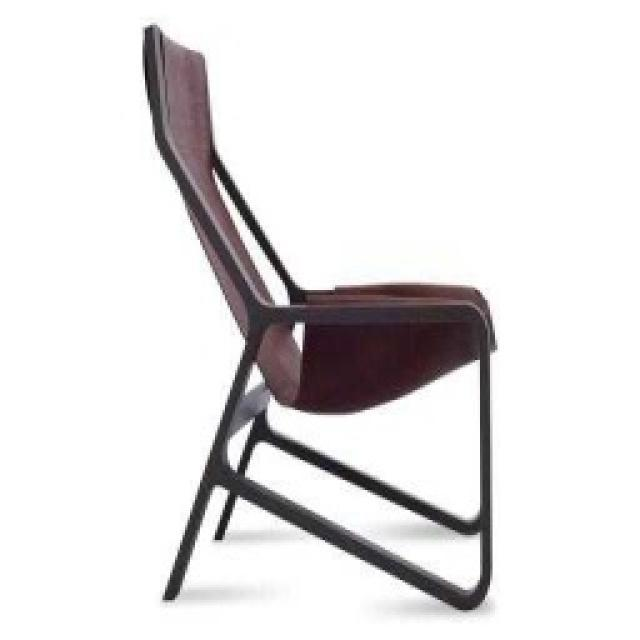sandalye: (140, 20, 498, 610)
